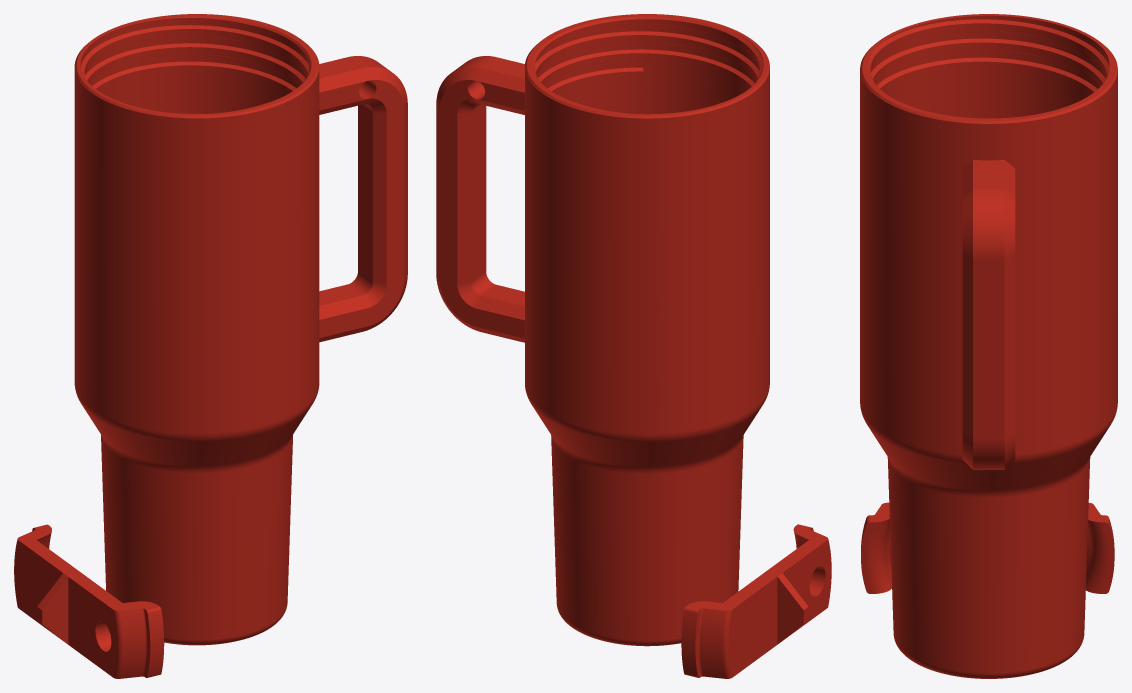
Rendered from tumbler-keychain.glb.
The picture shows the model from 3 angles, left to right: view 1: azimuth 30°, elevation 25°; view 2: azimuth 150°, elevation 25°; view 3: azimuth 270°, elevation 25°; orthographic projection. The views are drawn at different scales.
Parts seen in each view (by area): view 1: Tumbler Chapstick Holder5 w hole.stl_1_fil1, Tumbler Chapstick Holder5 w hole.stl_3_fil1; view 2: Tumbler Chapstick Holder5 w hole.stl_1_fil1, Tumbler Chapstick Holder5 w hole.stl_3_fil1; view 3: Tumbler Chapstick Holder5 w hole.stl_1_fil1, Tumbler Chapstick Holder5 w hole.stl_3_fil1.
Part boxes in pixels (box(x1,y1,x2,y2)): Tumbler Chapstick Holder5 w hole.stl_1_fil1: box(74, 14, 407, 645); Tumbler Chapstick Holder5 w hole.stl_3_fil1: box(14, 524, 164, 678); Tumbler Chapstick Holder5 w hole.stl_1_fil1: box(436, 14, 769, 646); Tumbler Chapstick Holder5 w hole.stl_3_fil1: box(681, 524, 831, 678); Tumbler Chapstick Holder5 w hole.stl_1_fil1: box(860, 14, 1117, 678); Tumbler Chapstick Holder5 w hole.stl_3_fil1: box(861, 502, 1114, 593).
Bounding box in the file's own units: 0.0528 × 0.0762 × 0.031.
